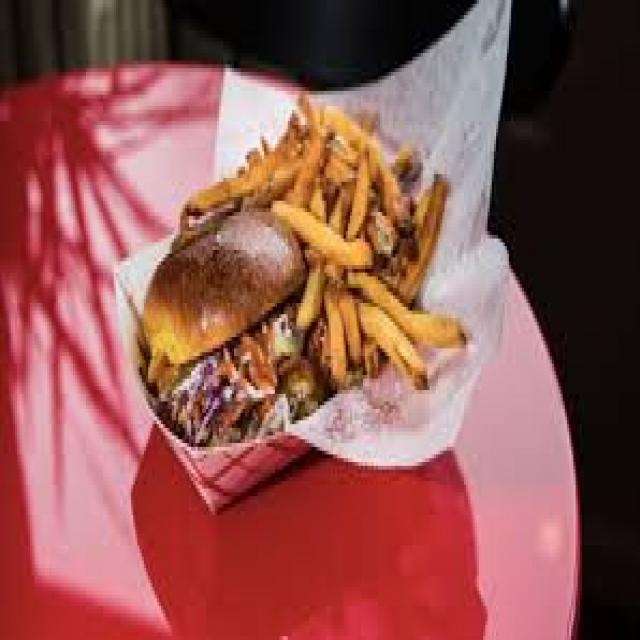Burger: (135, 201, 331, 443)
French Fries: (284, 95, 466, 401)
